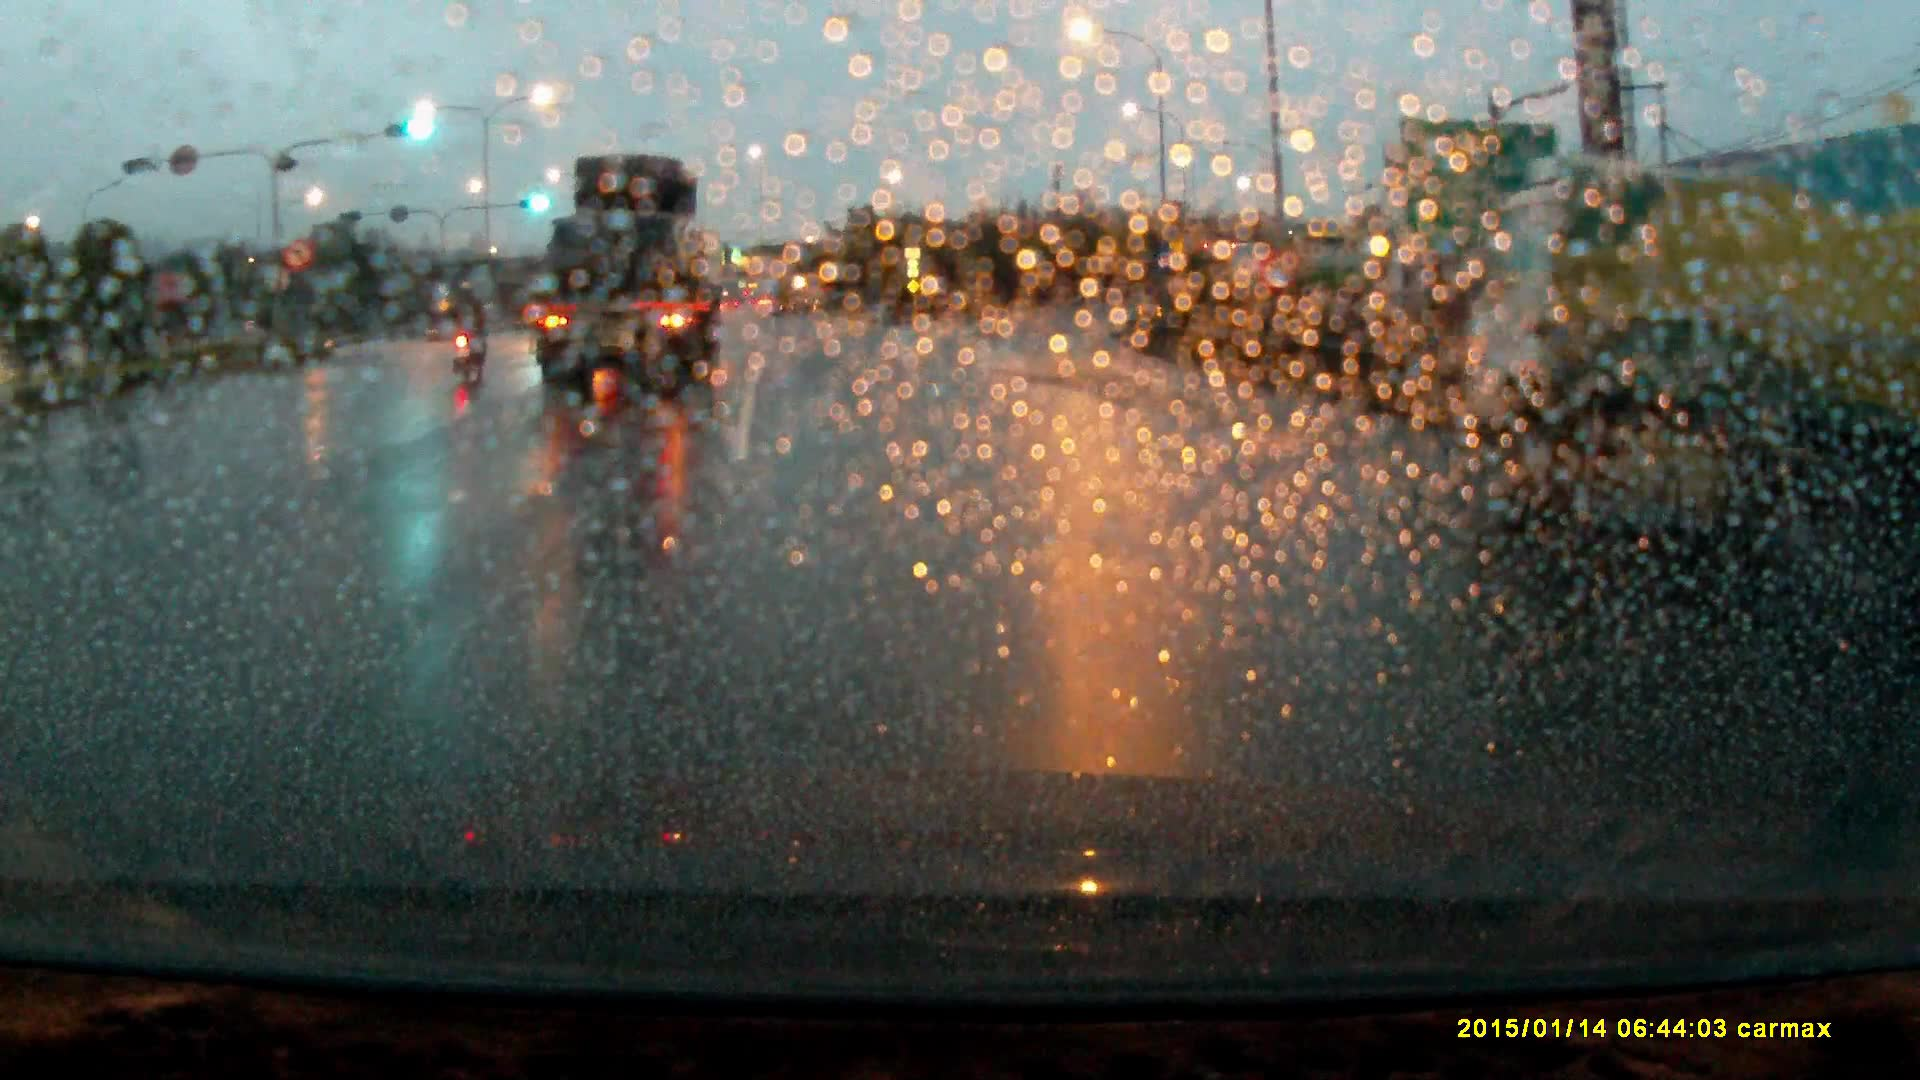rider: (439, 277, 490, 387)
vehicle: (1470, 129, 1920, 573), (529, 153, 724, 406)
